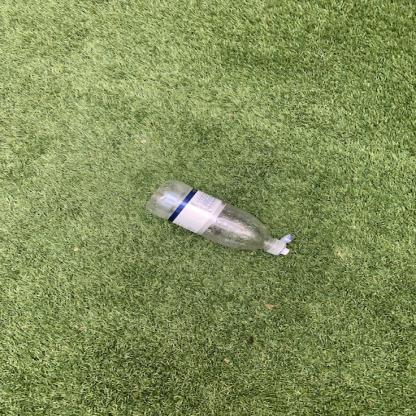trash: (144, 178, 296, 262)
